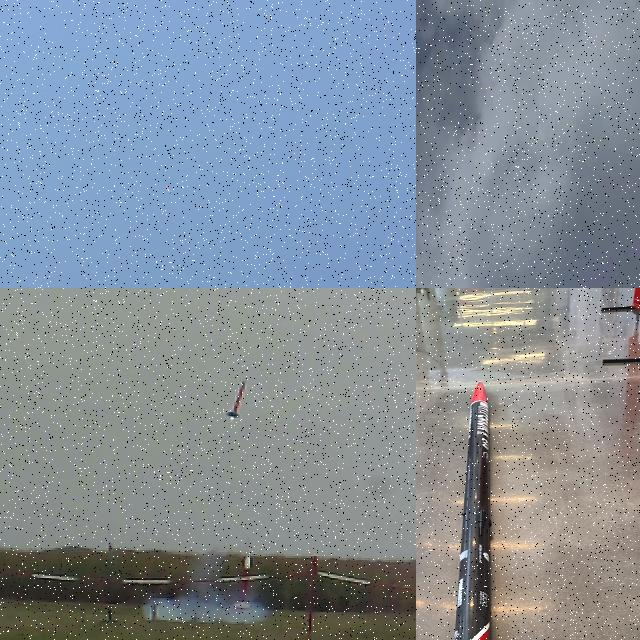Rocket: (454, 382, 491, 640), (234, 554, 254, 610), (225, 380, 247, 420), (165, 186, 174, 194)
